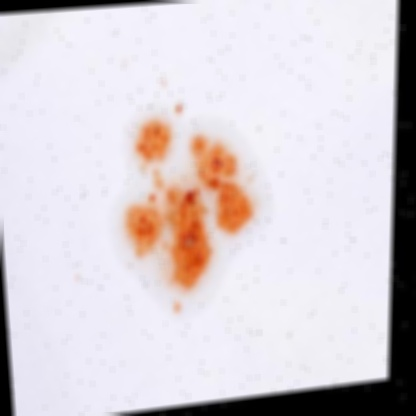kimchi: (112, 94, 273, 319)
